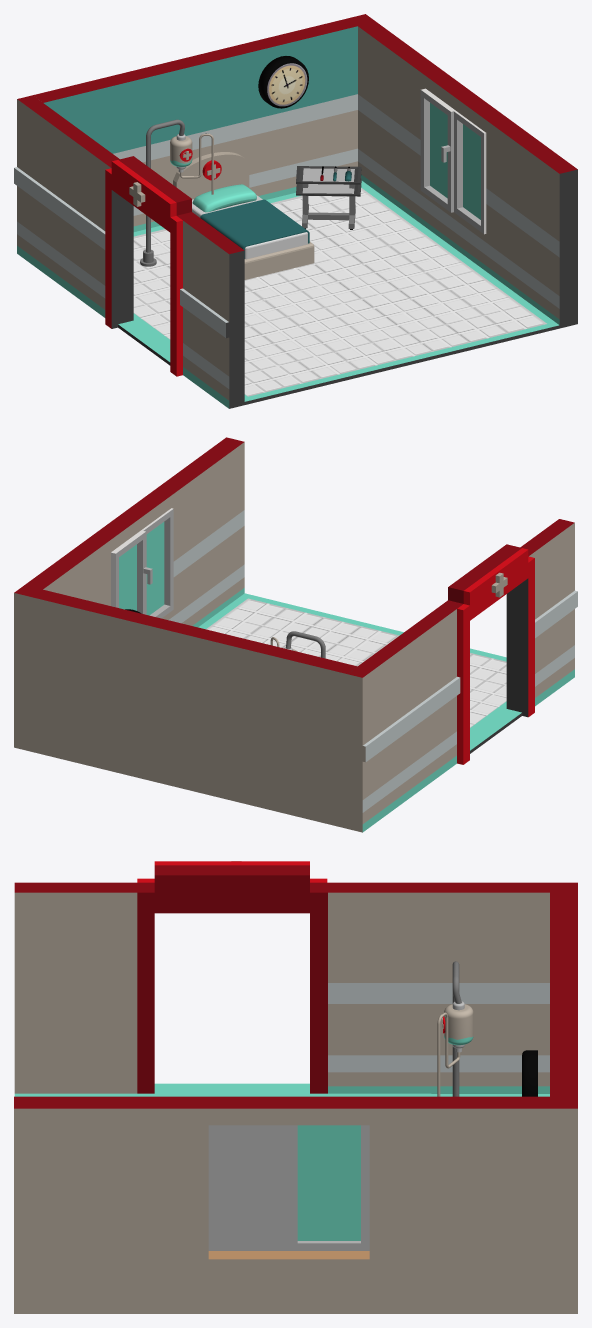
File: level2room.fbx
The picture shows the model from 3 angles, top to bottom: view 1: azimuth 30°, elevation 25°; view 2: azimuth 150°, elevation 25°; view 3: azimuth 270°, elevation 25°; orthographic projection. The views are drawn at different scales.
Visible parts, largest first — view 1: lv2_room, lv2_bed, lv2_window, lv2_blanket, lv2_table, lv2_serum; view 2: lv2_room, lv2_window; view 3: lv2_room, lv2_window, lv2_serum.
Boxes of the visible parts, <box> form: lv2_room: <box>14,14,577,408</box>; lv2_bed: <box>173,152,314,279</box>; lv2_window: <box>420,88,455,212</box>; lv2_blanket: <box>200,199,309,258</box>; lv2_table: <box>296,166,361,229</box>; lv2_serum: <box>140,119,213,266</box>; lv2_room: <box>14,437,577,832</box>; lv2_window: <box>111,530,152,614</box>; lv2_room: <box>14,861,577,1313</box>; lv2_window: <box>289,1125,369,1250</box>; lv2_serum: <box>437,961,473,1096</box>.
Size of the model in its own units: 573 by 256 by 587.
